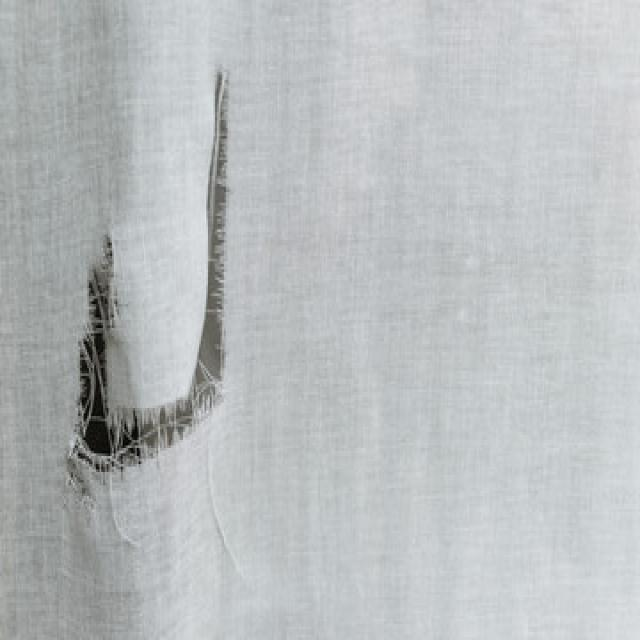Hole: (69, 72, 228, 490)
